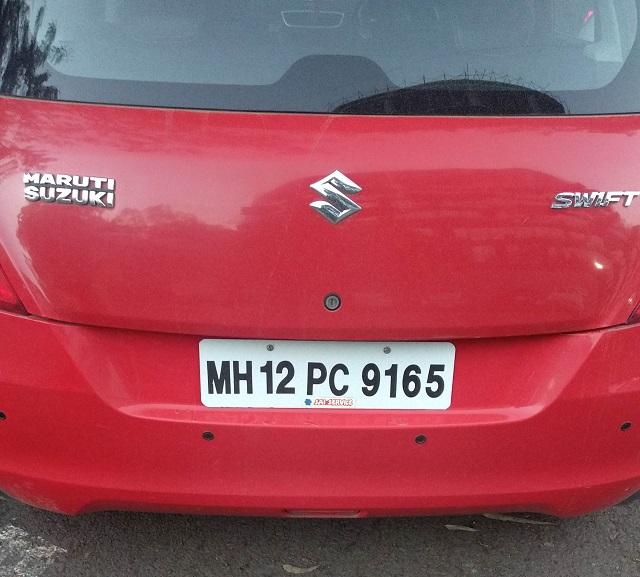licenseplate: (197, 333, 460, 415)
